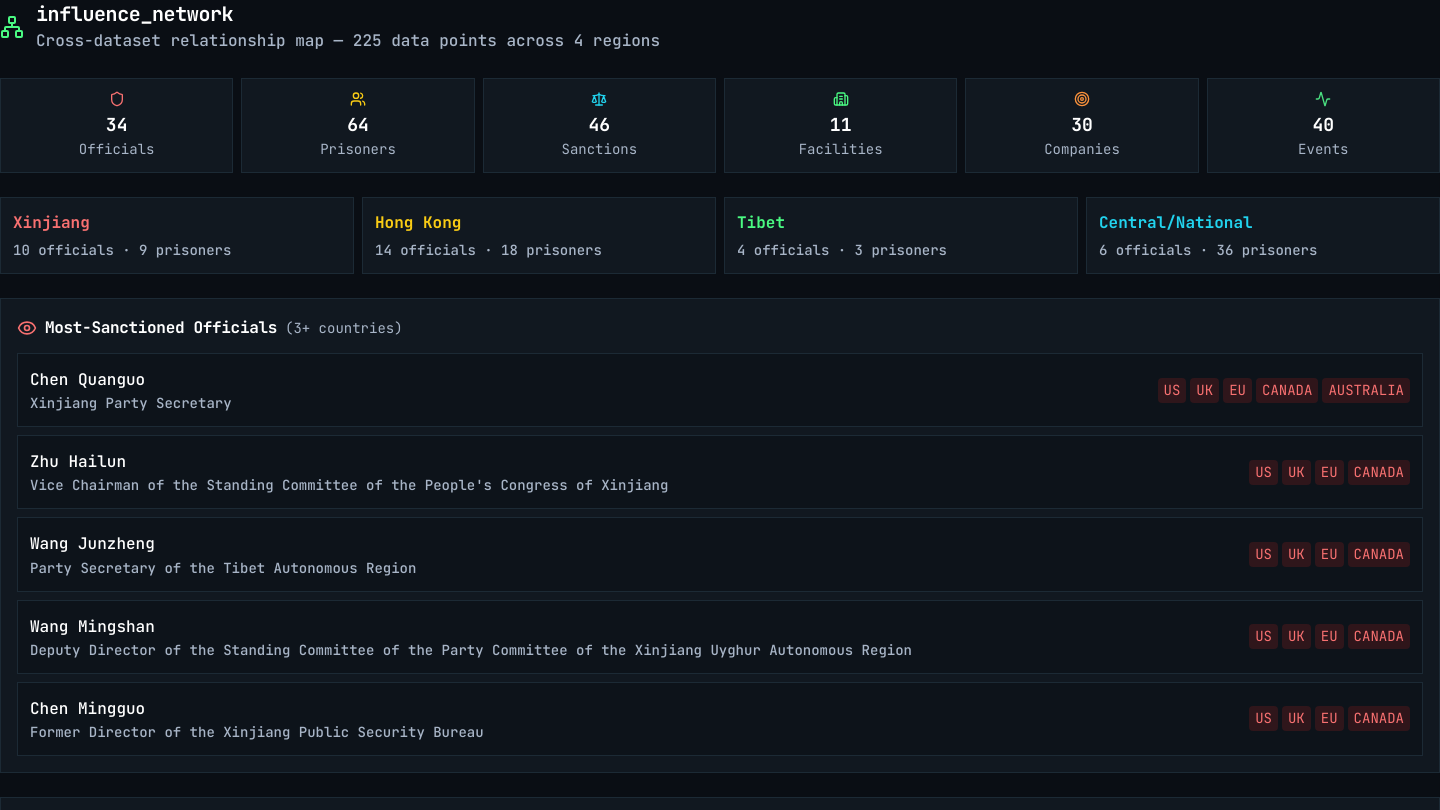
Test: InfluenceNetwork › selecting a region shows the detail panel
Step 1. Click the text "Xinjiang" → (51, 222), box [13,212,90,233]
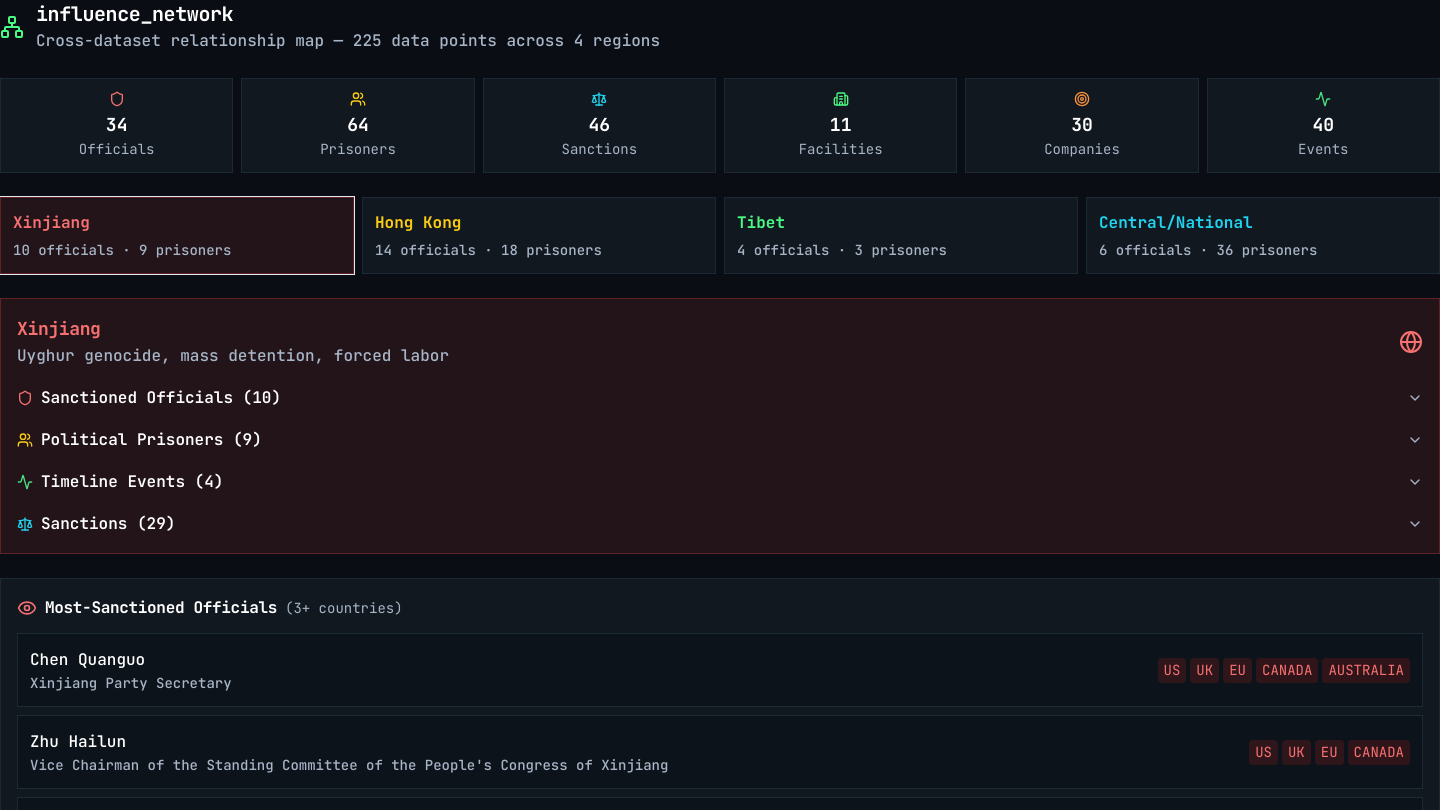
Expected: the text "Uyghur genocide, mass detention, forced labor" is shown, [17,343,449,369]
